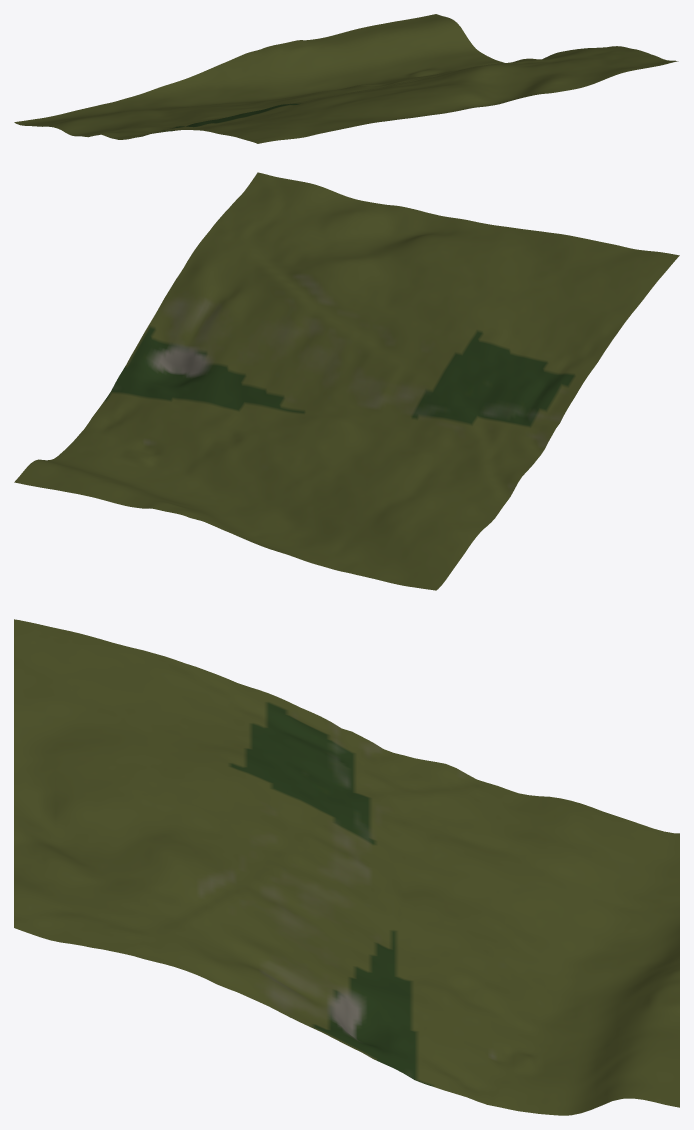
File: terrain_16_-9.glb
3 renders of one model, top to bottom at view 1: azimuth 30°, elevation 25°; view 2: azimuth 150°, elevation 25°; view 3: azimuth 270°, elevation 25°, orthographic. The views are drawn at different scales.
Parts seen in each view (by area): view 1: terrain_16_-9; view 2: terrain_16_-9; view 3: terrain_16_-9.
Boxes of the visible parts, x1,y1,x2,y2 form: terrain_16_-9: [14, 14, 678, 143]; terrain_16_-9: [14, 172, 679, 590]; terrain_16_-9: [14, 619, 679, 1115].
Size of the model in its own units: 256 by 93.14 by 256.
